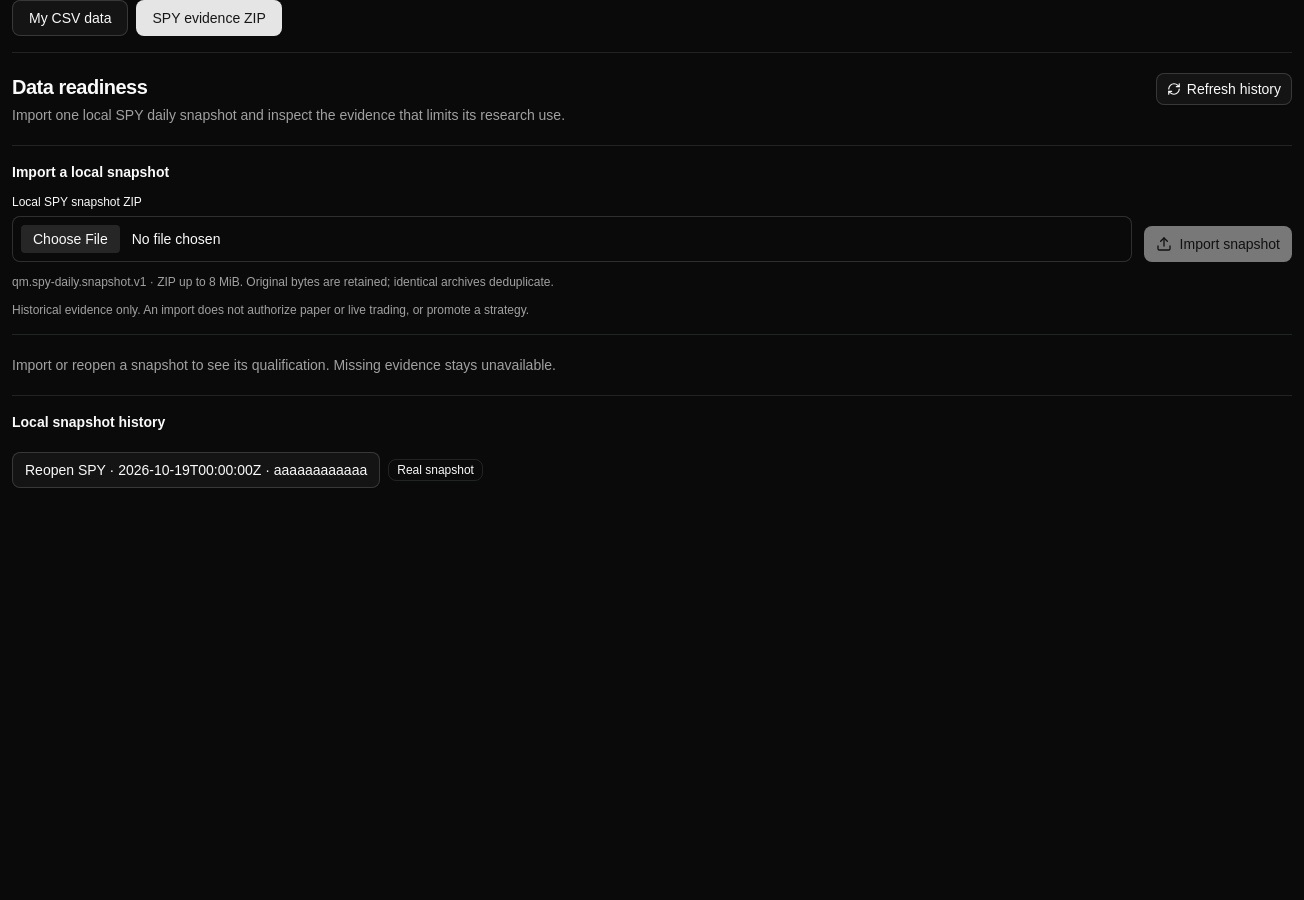
explains known use and PIT codes while preserving original and unknown evidence
Click the button "Reopen SPY · 2026-10-19T00:00:00Z · aaaaaaaaaaaa". click: (196, 470)
box: [12,452,380,488]
(page scrolled)
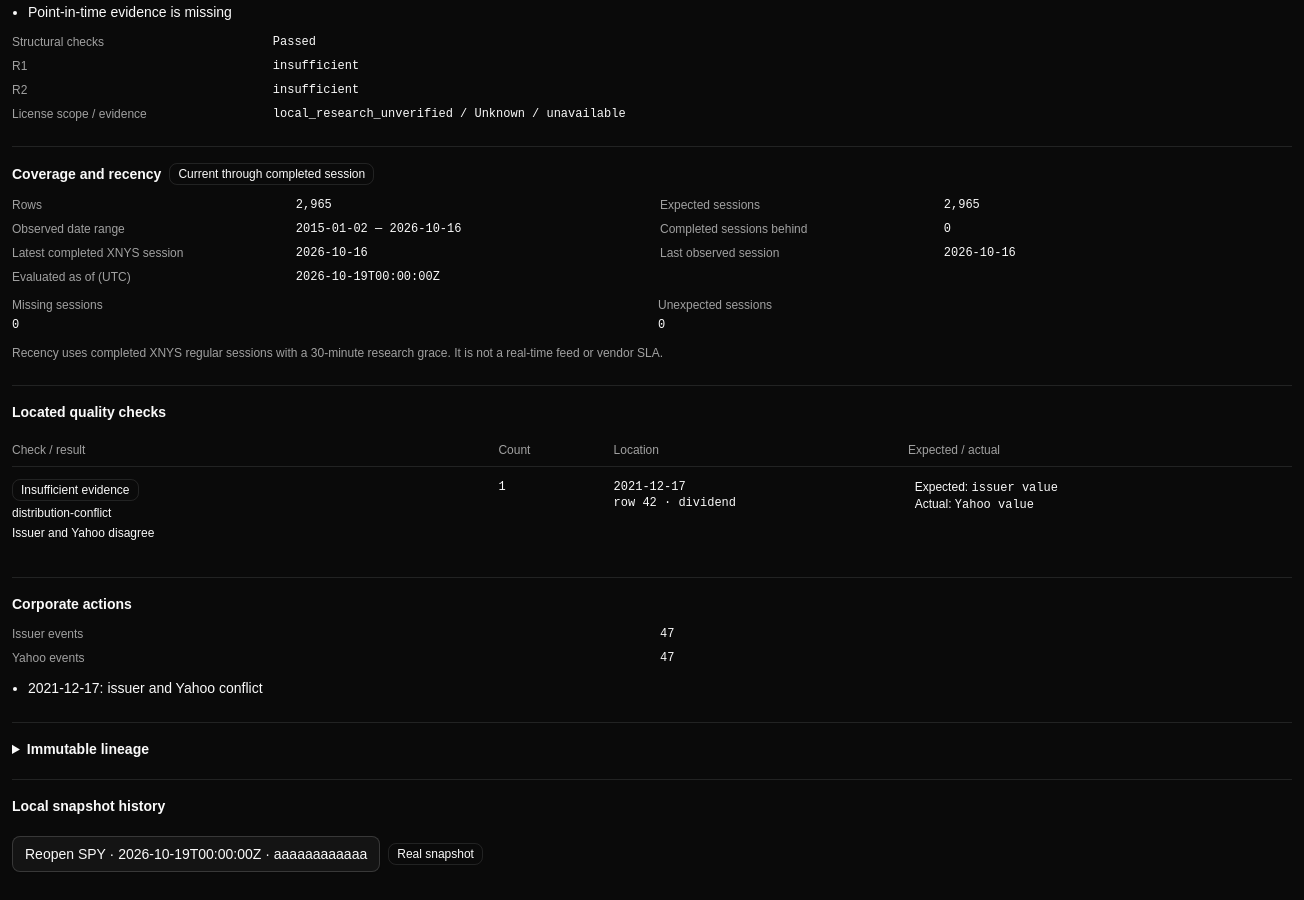
Result: the text "distribution-conflict" is shown at [12,506,111,520]
